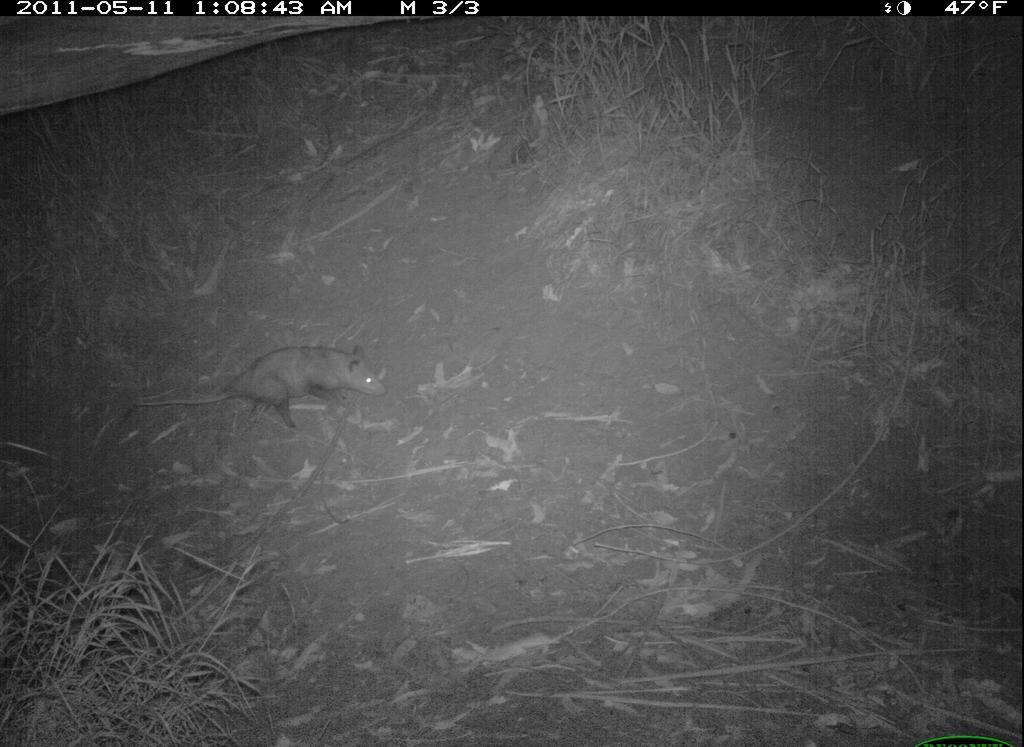opossum: (121, 340, 391, 436)
